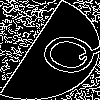Q: (25, 25, 100, 81)
